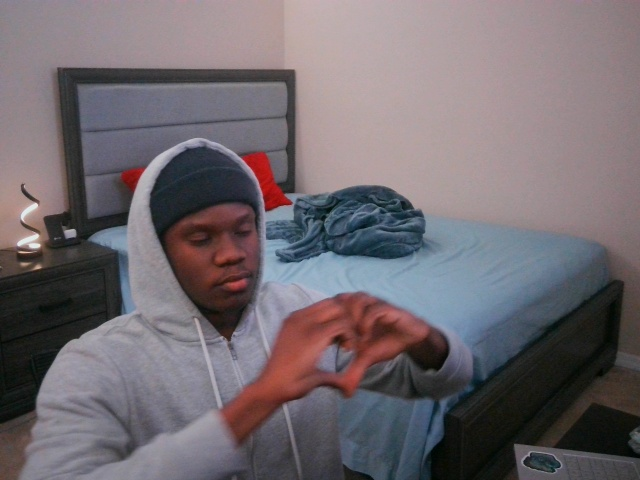HandHeart: (263, 291, 431, 401)
